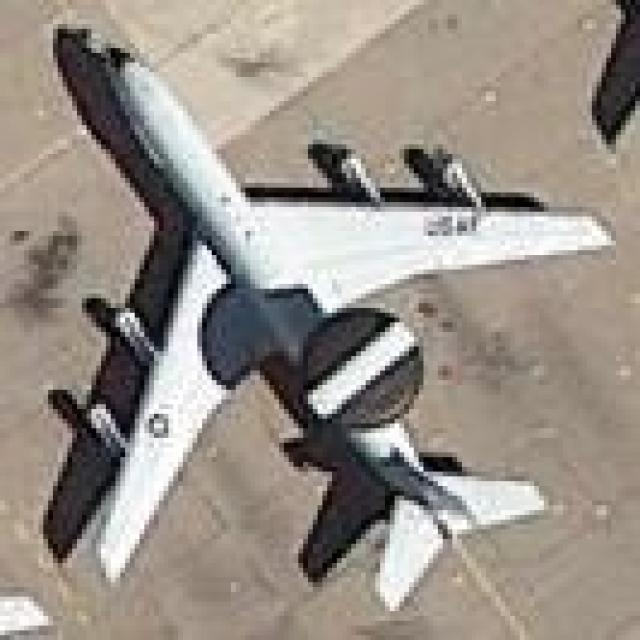E-3_TopDown: (34, 15, 616, 611)
